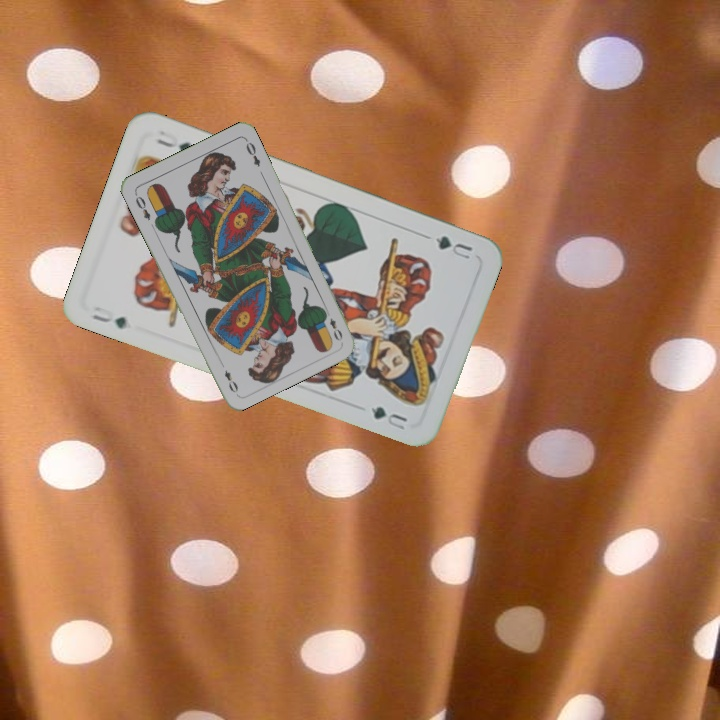EO: (321, 306, 345, 344), (131, 189, 153, 223)
GU: (430, 231, 475, 262), (88, 302, 130, 332)
